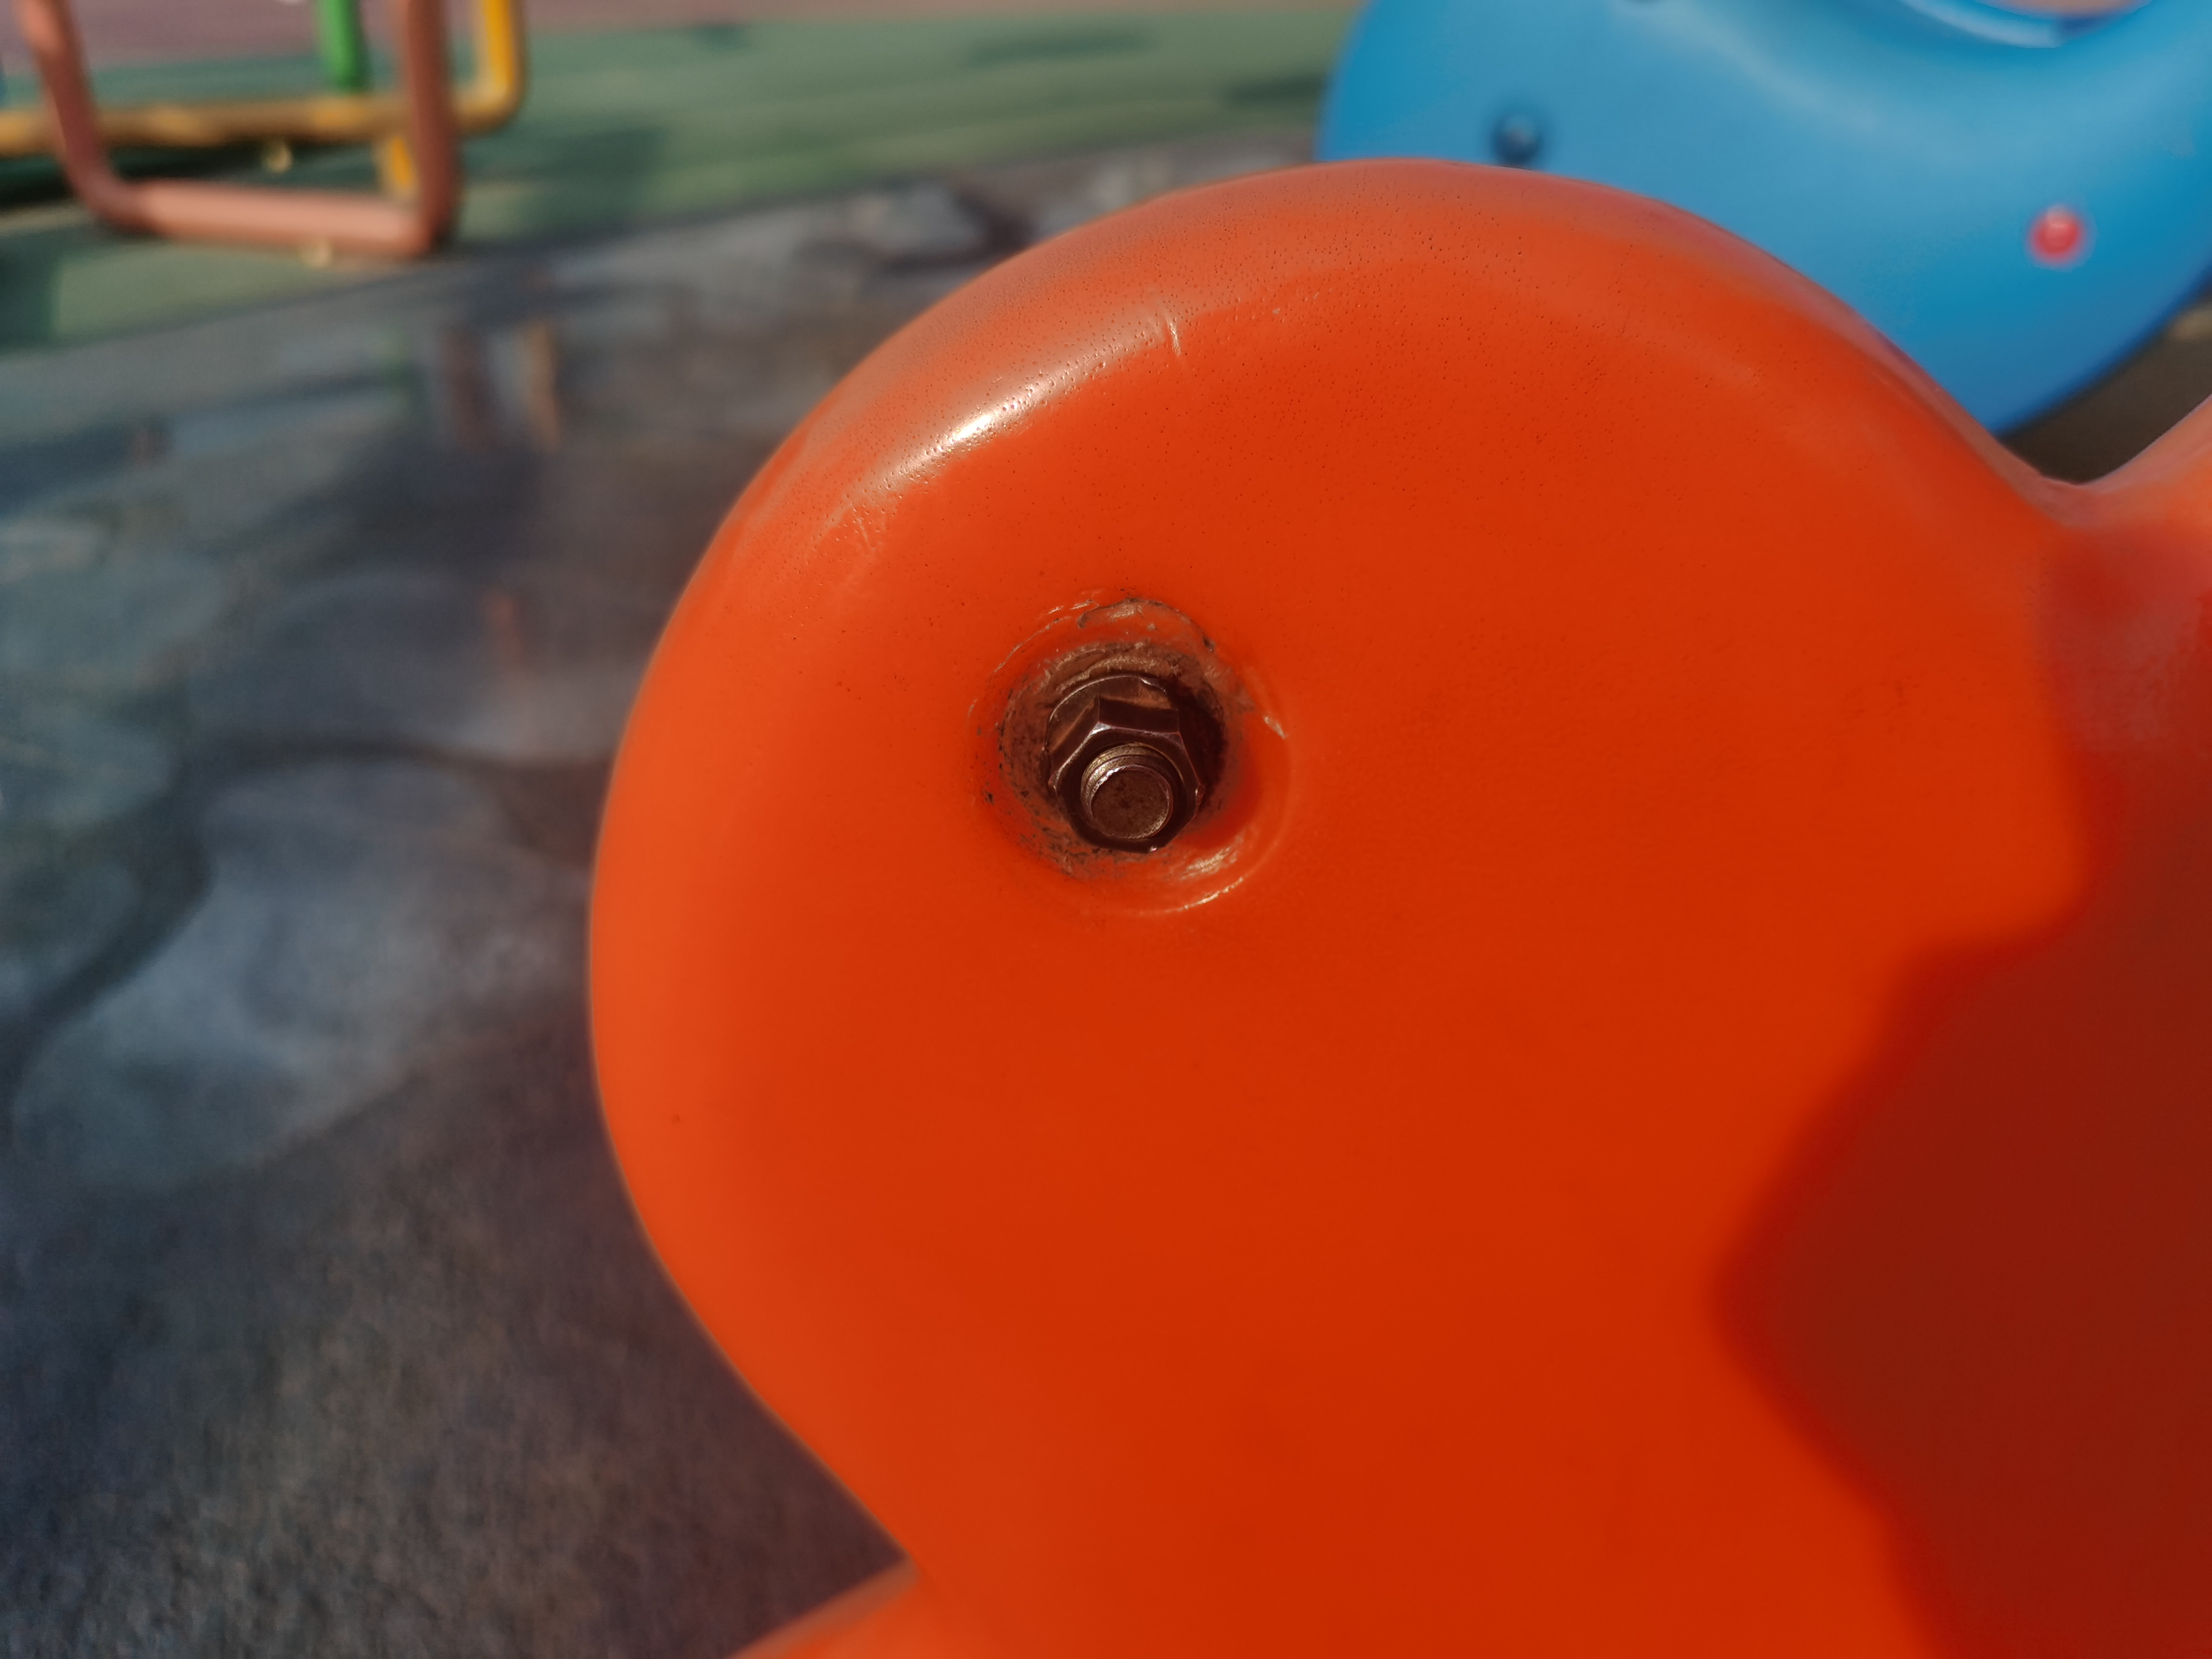bolt_b: (1040, 688, 1212, 859)
